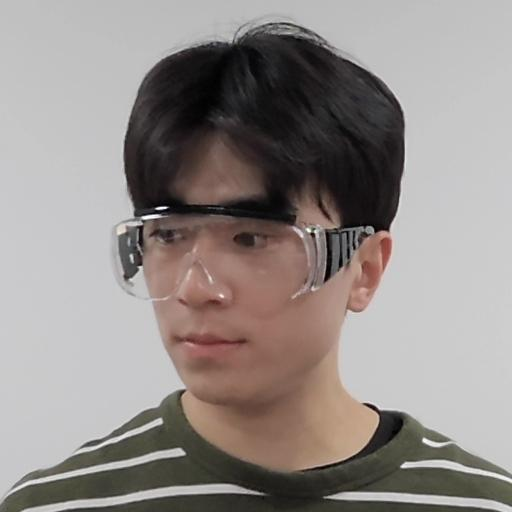glasses: (112, 45, 405, 386)
